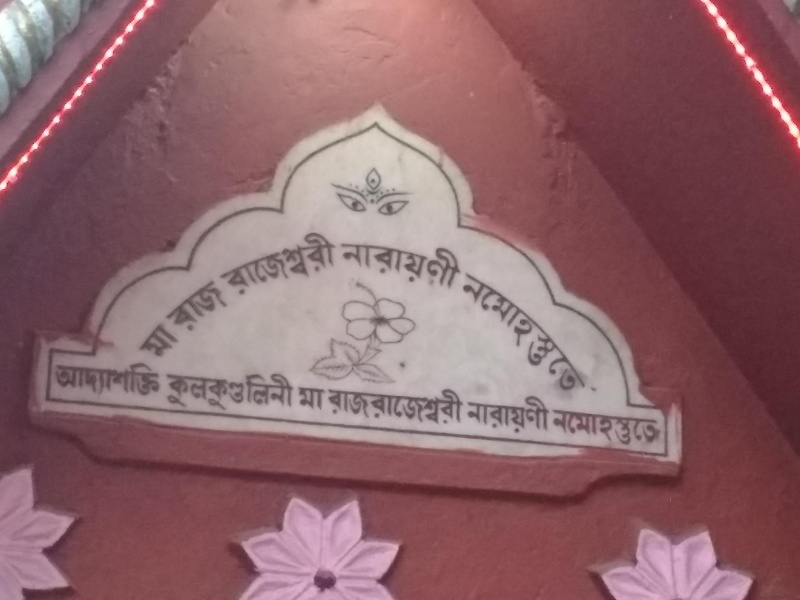text: (481, 267, 496, 404), (497, 267, 512, 404), (513, 267, 528, 404), (529, 267, 544, 404), (545, 267, 560, 404), (561, 267, 576, 404), (577, 267, 592, 404), (593, 267, 608, 404), (467, 267, 480, 404), (225, 227, 240, 299), (241, 227, 256, 299), (257, 227, 272, 299), (273, 227, 288, 299), (289, 227, 304, 299), (305, 227, 320, 299), (321, 227, 336, 299), (161, 277, 176, 336), (177, 277, 192, 336), (193, 277, 208, 336), (209, 277, 224, 336), (145, 308, 160, 364), (161, 308, 176, 364), (225, 277, 238, 336), (353, 240, 368, 291), (369, 240, 384, 291), (385, 240, 400, 291), (401, 240, 416, 291), (417, 240, 432, 291), (433, 240, 448, 291), (449, 240, 464, 291), (214, 227, 224, 299), (337, 227, 347, 299), (177, 370, 192, 417), (193, 370, 208, 417), (209, 370, 224, 417), (225, 370, 240, 417), (241, 370, 256, 417), (257, 370, 272, 417), (273, 370, 288, 417), (449, 383, 465, 427), (609, 267, 614, 404), (481, 394, 496, 439), (497, 394, 512, 439), (513, 394, 528, 439), (529, 394, 544, 439), (145, 357, 161, 399), (337, 383, 352, 427), (353, 383, 368, 427), (369, 383, 384, 427), (385, 383, 400, 427), (401, 383, 416, 427), (417, 383, 432, 427), (433, 383, 448, 427), (65, 357, 80, 399), (81, 357, 96, 399), (97, 357, 112, 399), (113, 357, 128, 399), (129, 357, 144, 399), (466, 394, 480, 439), (561, 407, 576, 447), (577, 407, 592, 447), (593, 407, 608, 447), (609, 407, 624, 447), (625, 407, 640, 447), (641, 407, 656, 447), (342, 240, 352, 291), (177, 308, 186, 364), (326, 383, 336, 427), (167, 370, 176, 417), (54, 357, 64, 399), (305, 386, 320, 410), (289, 370, 296, 417), (552, 407, 560, 447), (545, 394, 552, 439), (465, 240, 471, 291), (657, 407, 661, 447), (299, 386, 304, 410), (321, 386, 326, 410), (142, 308, 144, 364)
